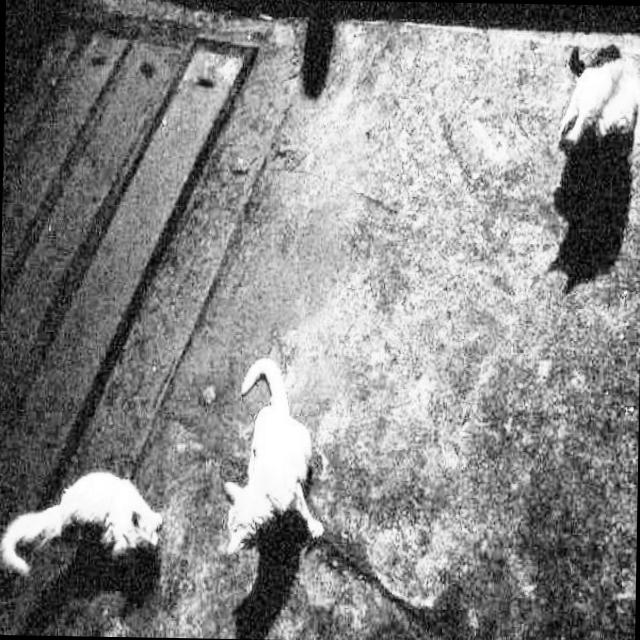Cat: (216, 351, 331, 574), (0, 464, 170, 579), (552, 35, 640, 151)
